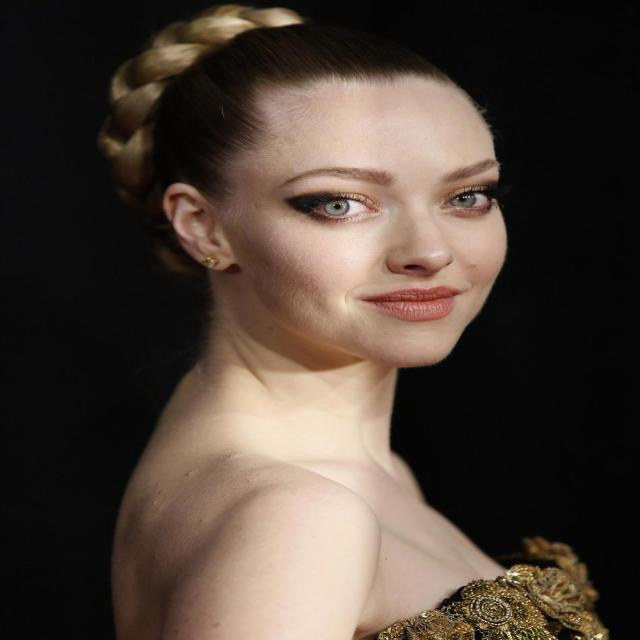no-earmuff: (141, 170, 256, 284)
